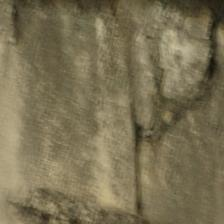Crack: (134, 20, 222, 145)
